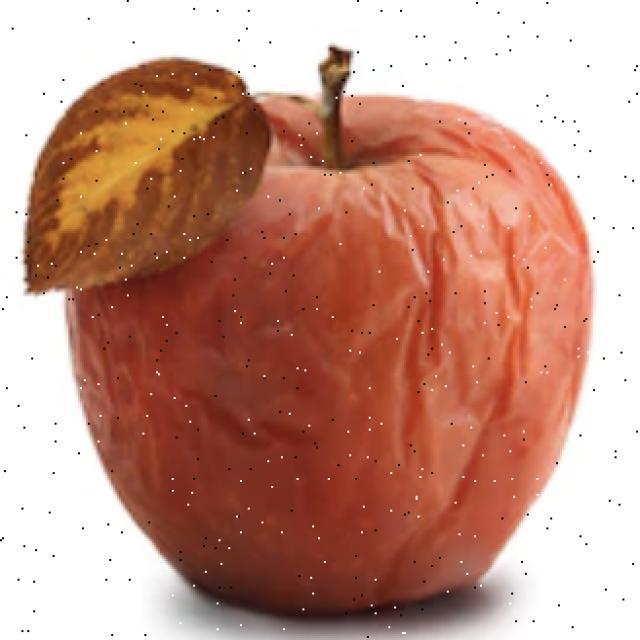Rotten: (52, 107, 590, 615)
